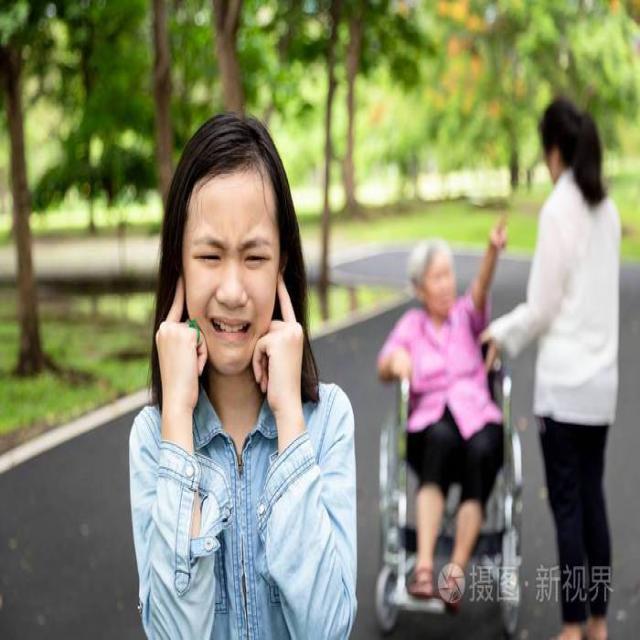wheelchairs: (367, 336, 536, 639)
